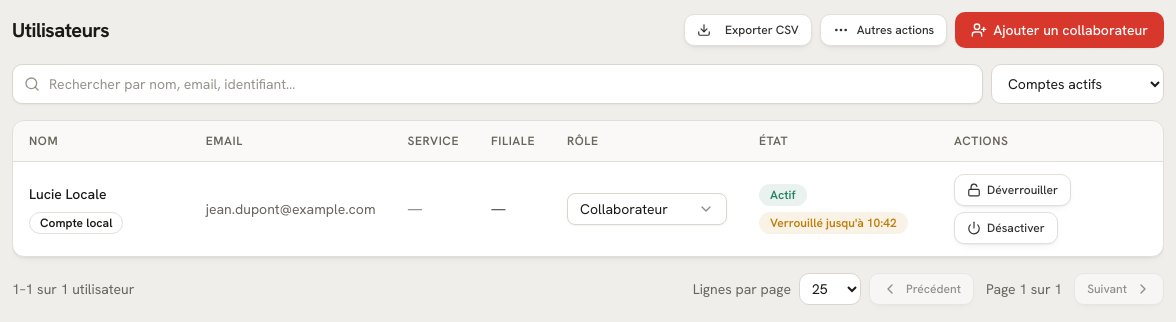
Test case: UtilisateursPage — liste › déverrouille via POST /users/:id/unlock : message, puis l’état disparaît
The width and height of the screenshot is (1176, 322).
What coordinates should you click on to do the following:
click the button with aria-label "Déverrouiller le compte de Lucie Locale"
I would click on:
 (1013, 190)
Its box is [954,174,1071,206].
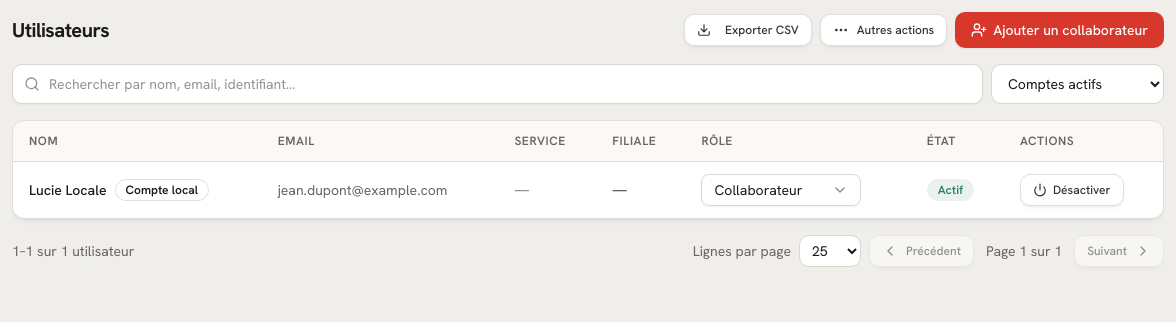
expect the text "Verrouillé jusqu'à 10:42" is gone: met
expect the button "Déverrouiller" is gone: met
